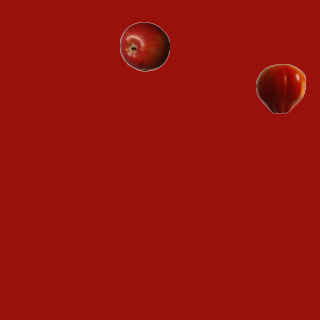Apple Braeburn: (119, 21, 169, 71)
Tomato 1: (255, 63, 305, 113)
